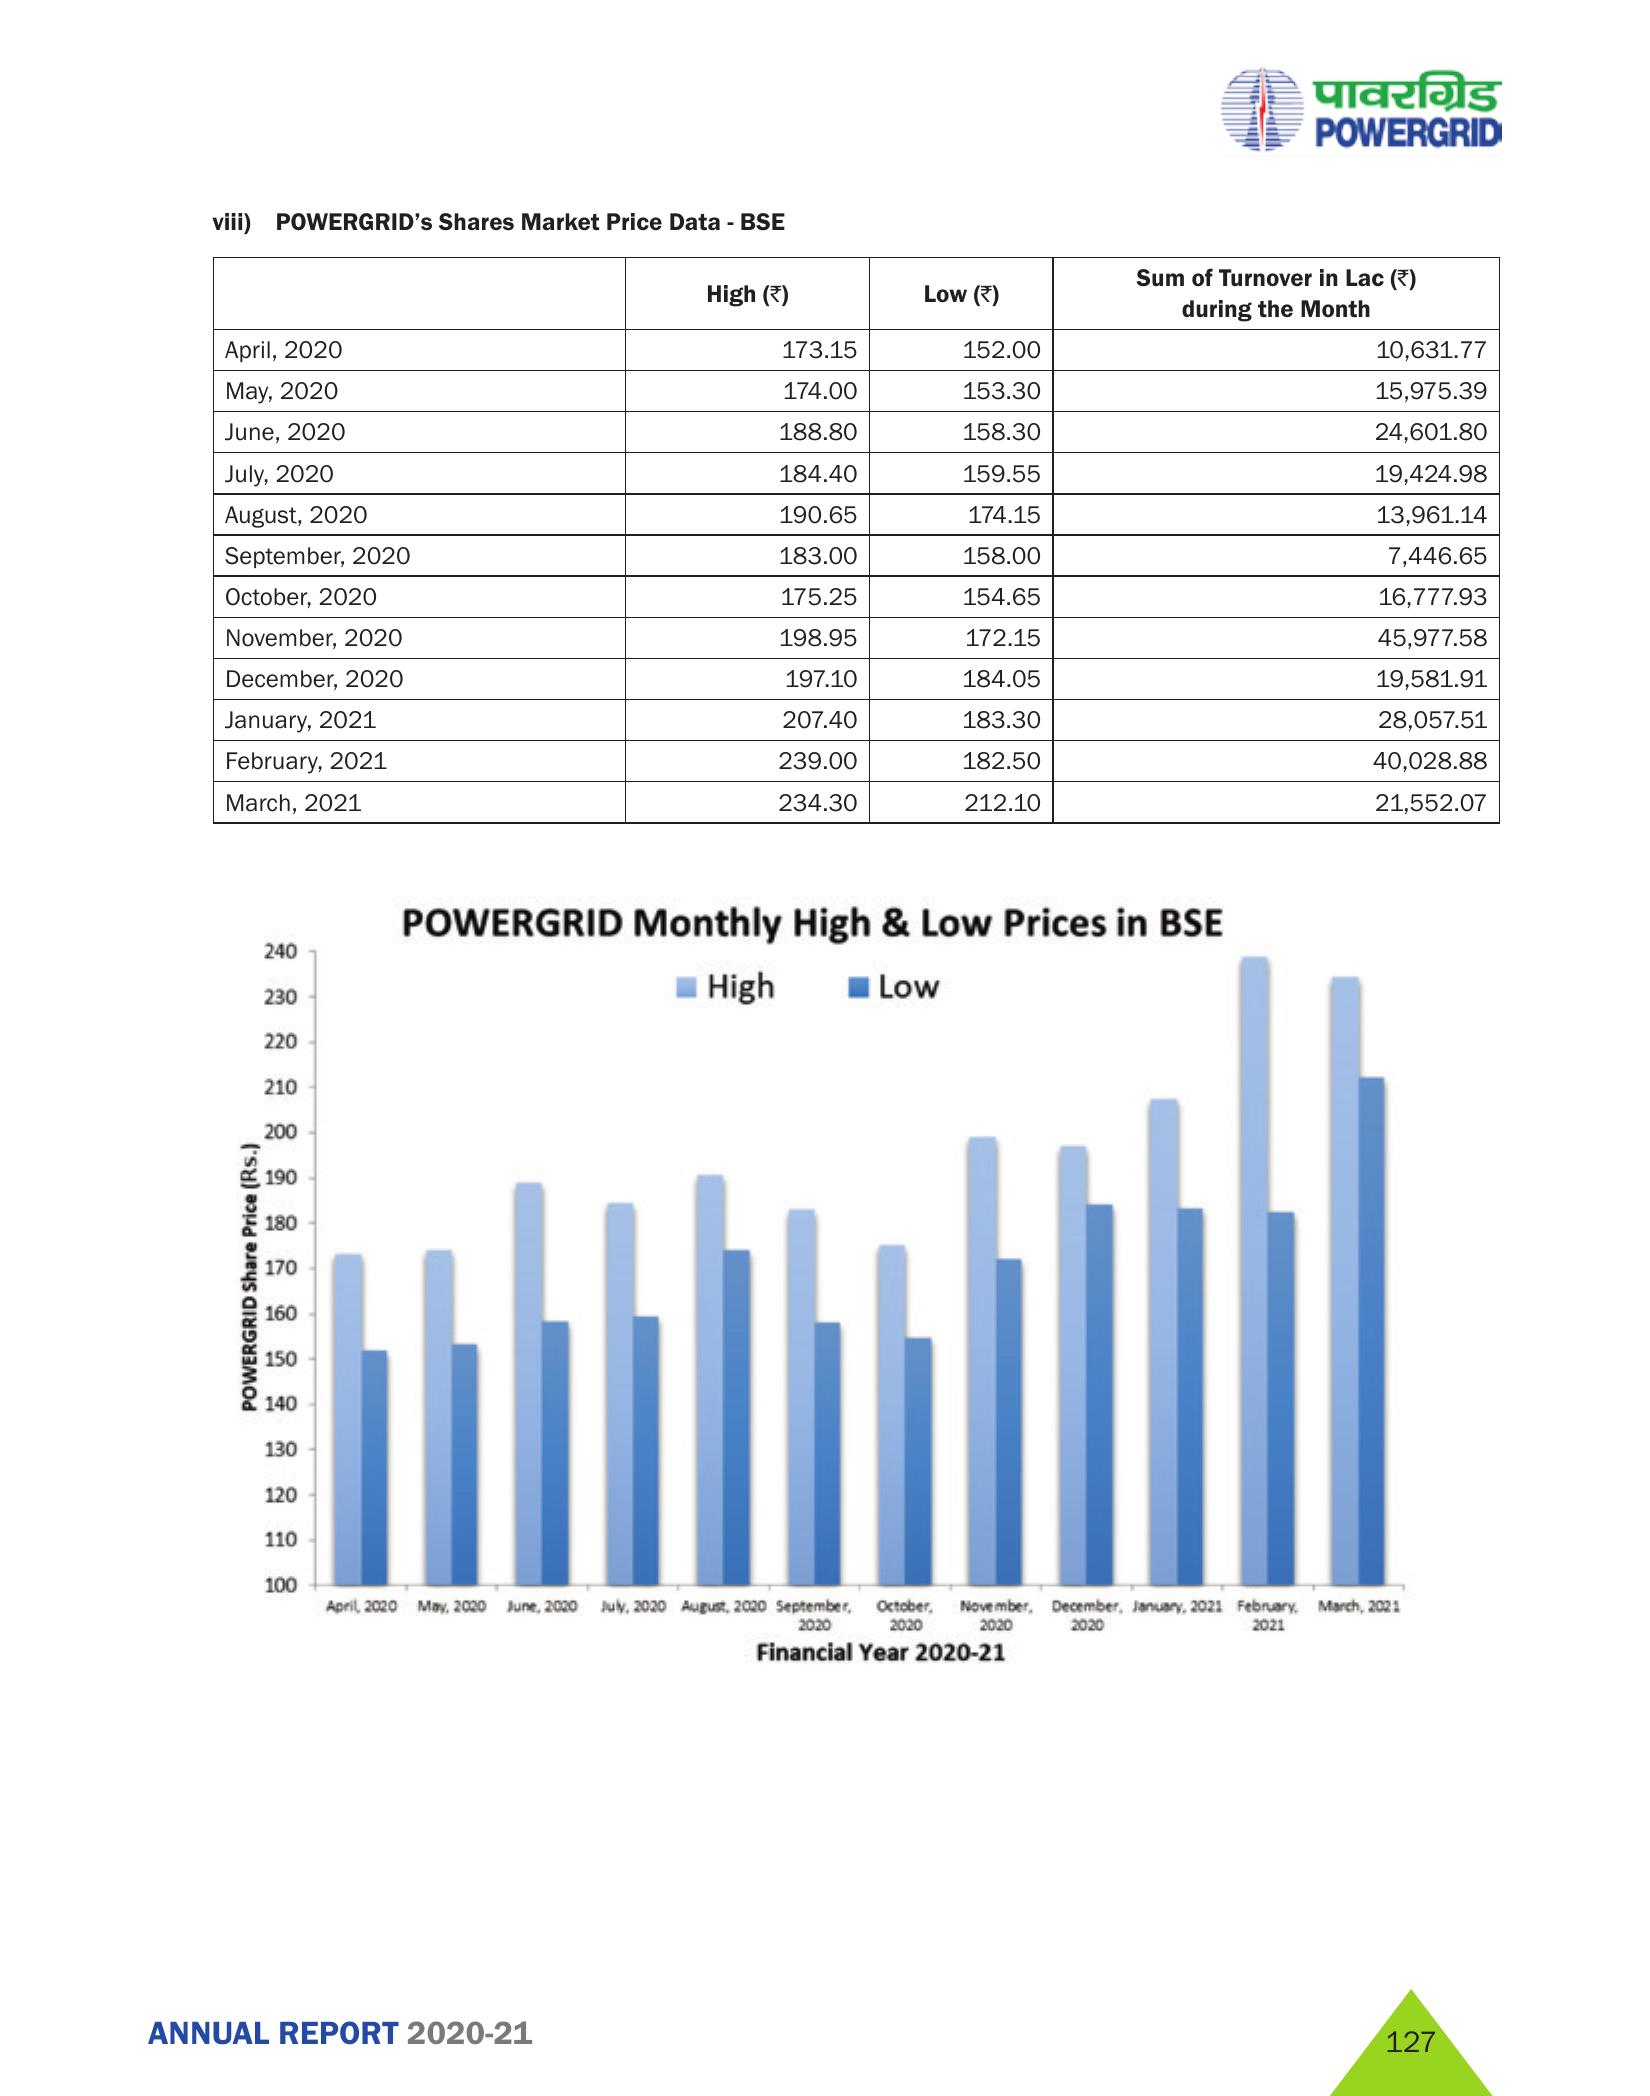Footer: (0, 1945, 1650, 2096)
Header: (0, 0, 1650, 168)
Image: (129, 883, 1446, 1683)
Table: (163, 260, 1524, 834)
